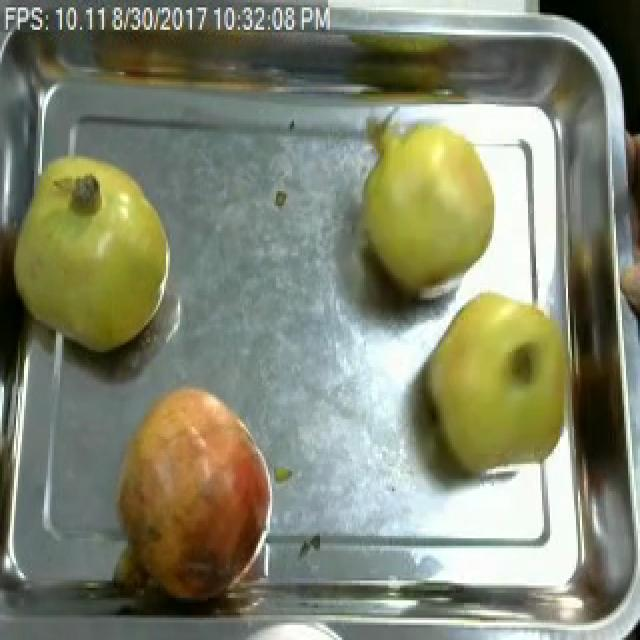fruit: (98, 365, 314, 615), (0, 142, 190, 370), (416, 275, 582, 494), (342, 109, 508, 318), (614, 228, 640, 342)
